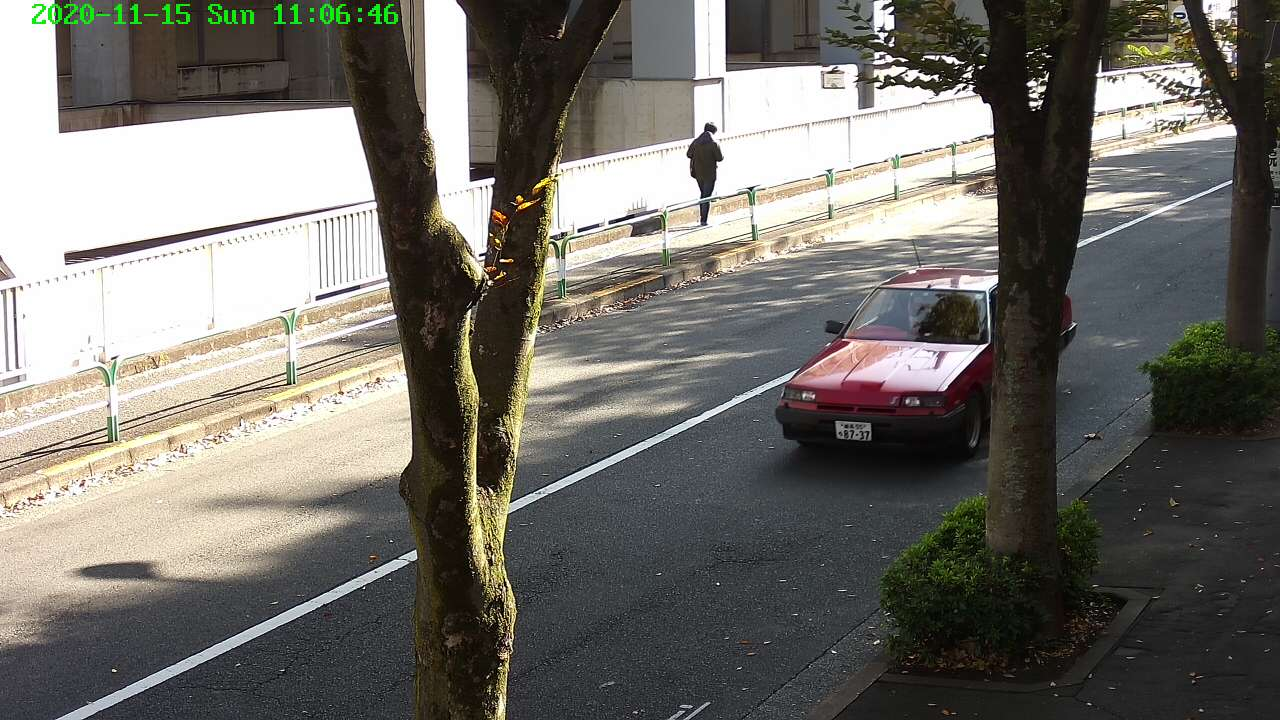number_plate: (835, 418, 873, 442)
